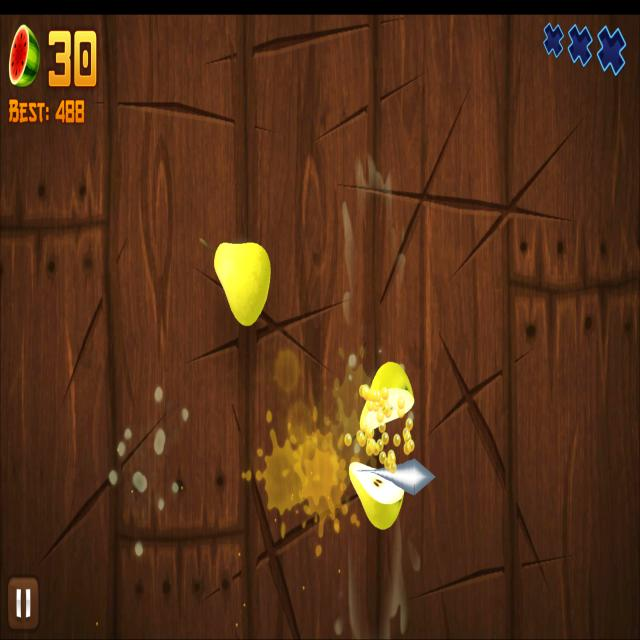fruit: (214, 241, 272, 327)
